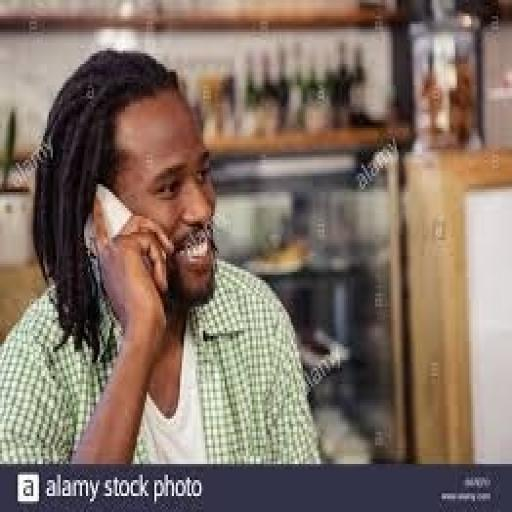calling: (0, 45, 326, 463)
